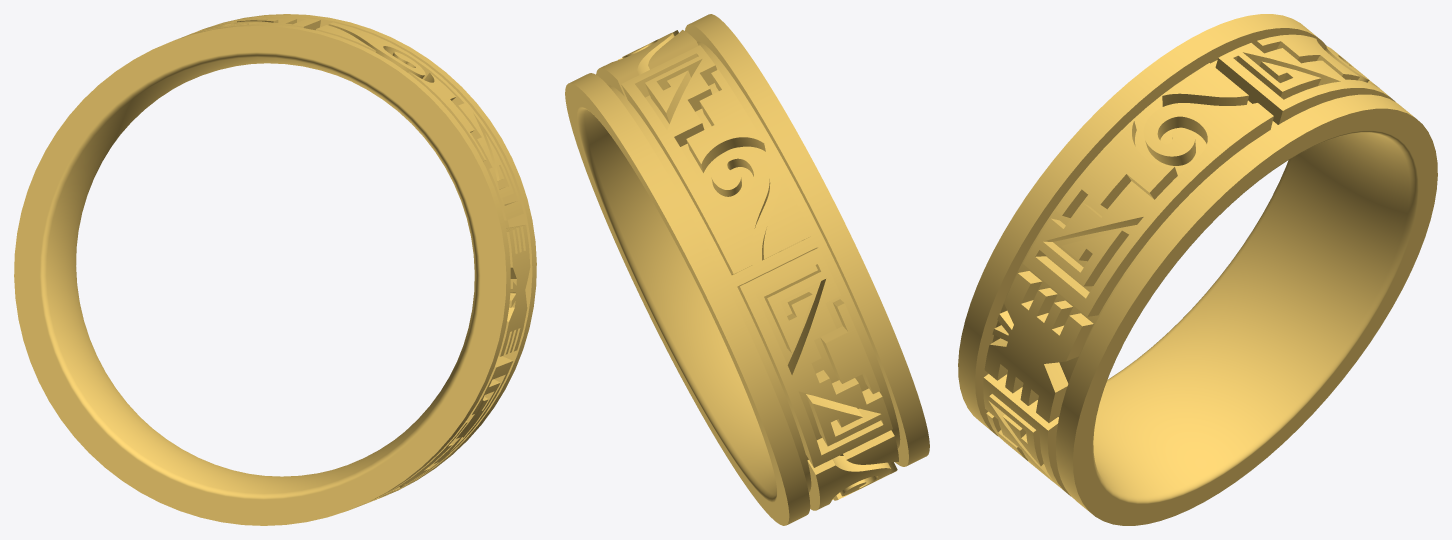
The model's file is aztec-ring-2.obj.
The picture shows the model from 3 angles, left to right: view 1: azimuth 30°, elevation 25°; view 2: azimuth 150°, elevation 25°; view 3: azimuth 270°, elevation 25°; orthographic projection. The views are drawn at different scales.
Visible parts, largest first — view 1: Part_1; view 2: Part_1; view 3: Part_1.
Boxes of the visible parts, left/top/right/bottom form: Part_1: left=14, top=14, right=536, bottom=525; Part_1: left=565, top=14, right=929, bottom=525; Part_1: left=958, top=14, right=1437, bottom=525.
Size of the model in its own units: 0.023 by 0.0246 by 0.022.
